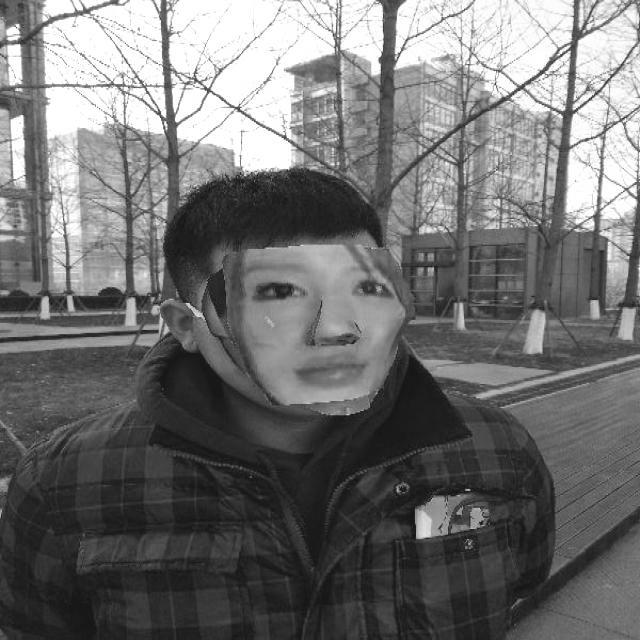fake: (214, 234, 414, 416)
